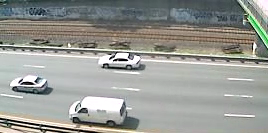car: (66, 93, 131, 129), (97, 50, 145, 72), (8, 74, 53, 96)
